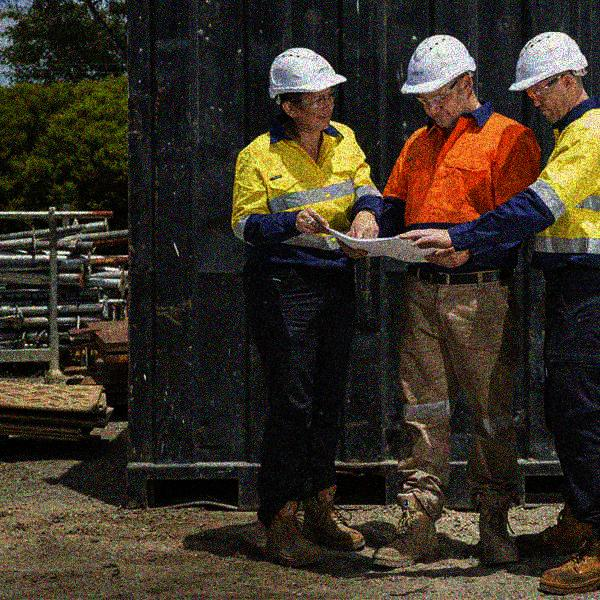helmet: (508, 29, 594, 123), (400, 31, 480, 129), (263, 46, 347, 133)
